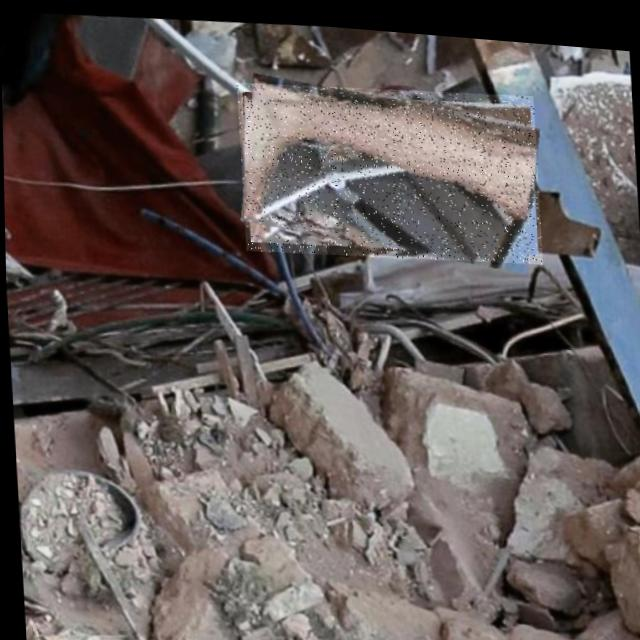Person in Rubble: (235, 67, 541, 265)
